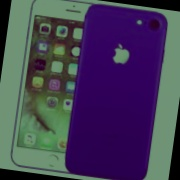iphone: (21, 3, 105, 176)
